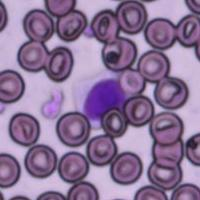L: (73, 68, 130, 128)
